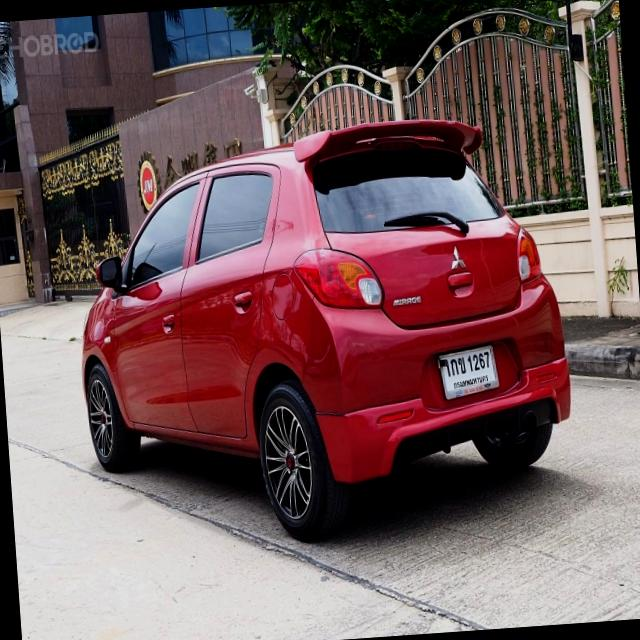license_plate: (436, 341, 506, 406)
